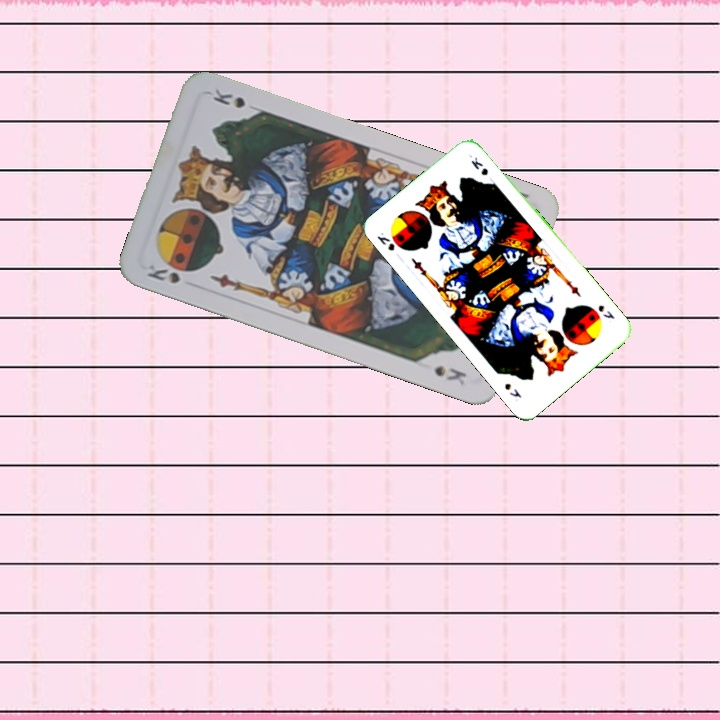SK: (143, 260, 183, 287), (373, 228, 397, 254), (594, 301, 617, 322)
